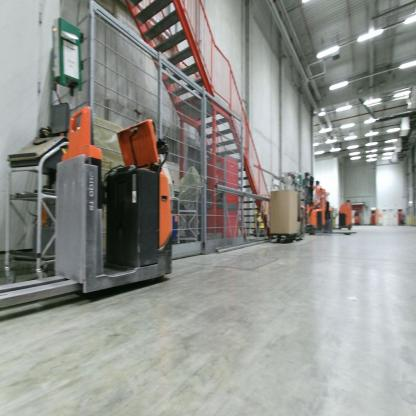pallet_truck: (2, 102, 184, 326), (301, 170, 354, 242), (321, 185, 355, 235), (336, 200, 355, 228)
